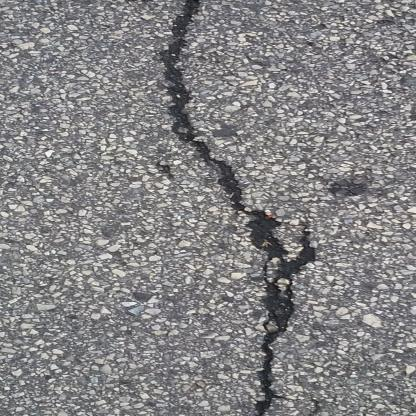Cracks: (164, 0, 396, 416)
